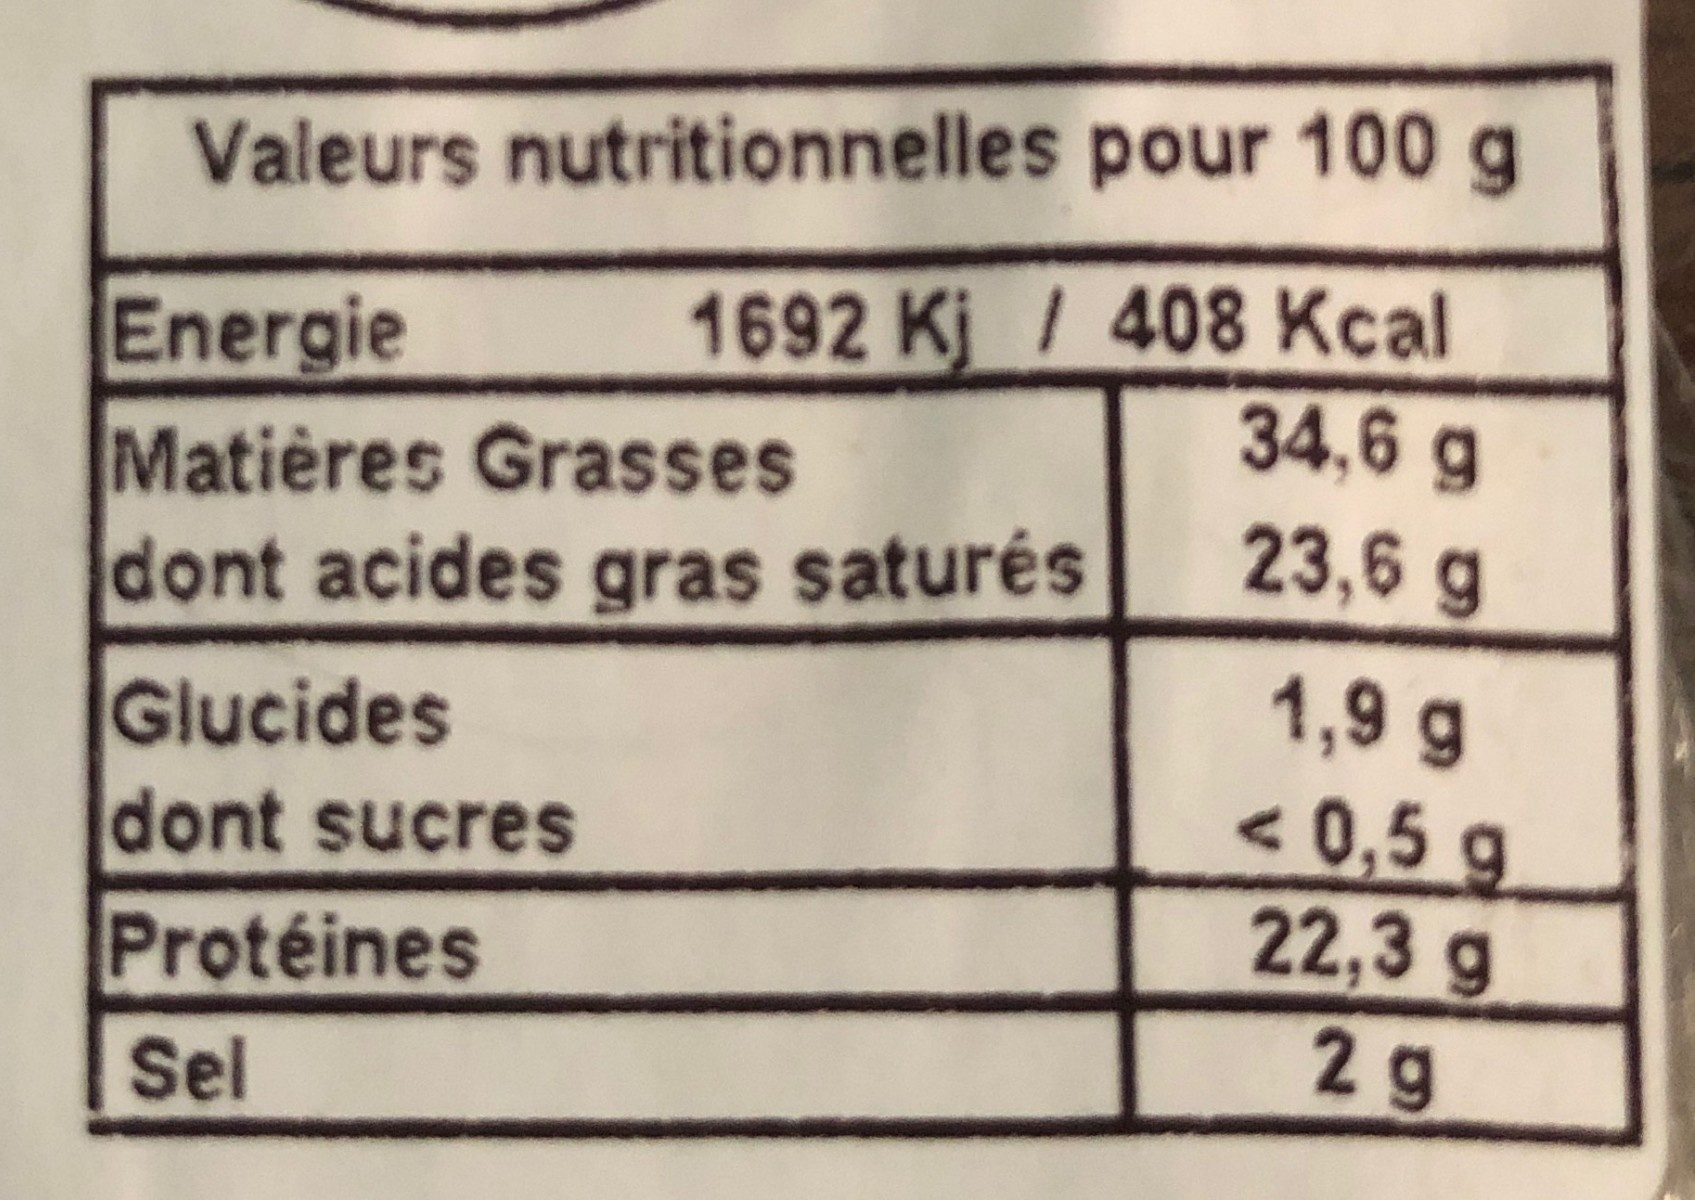column: (109, 406, 1085, 1116), (1225, 404, 1520, 1112)
table: (84, 65, 1640, 1155)
